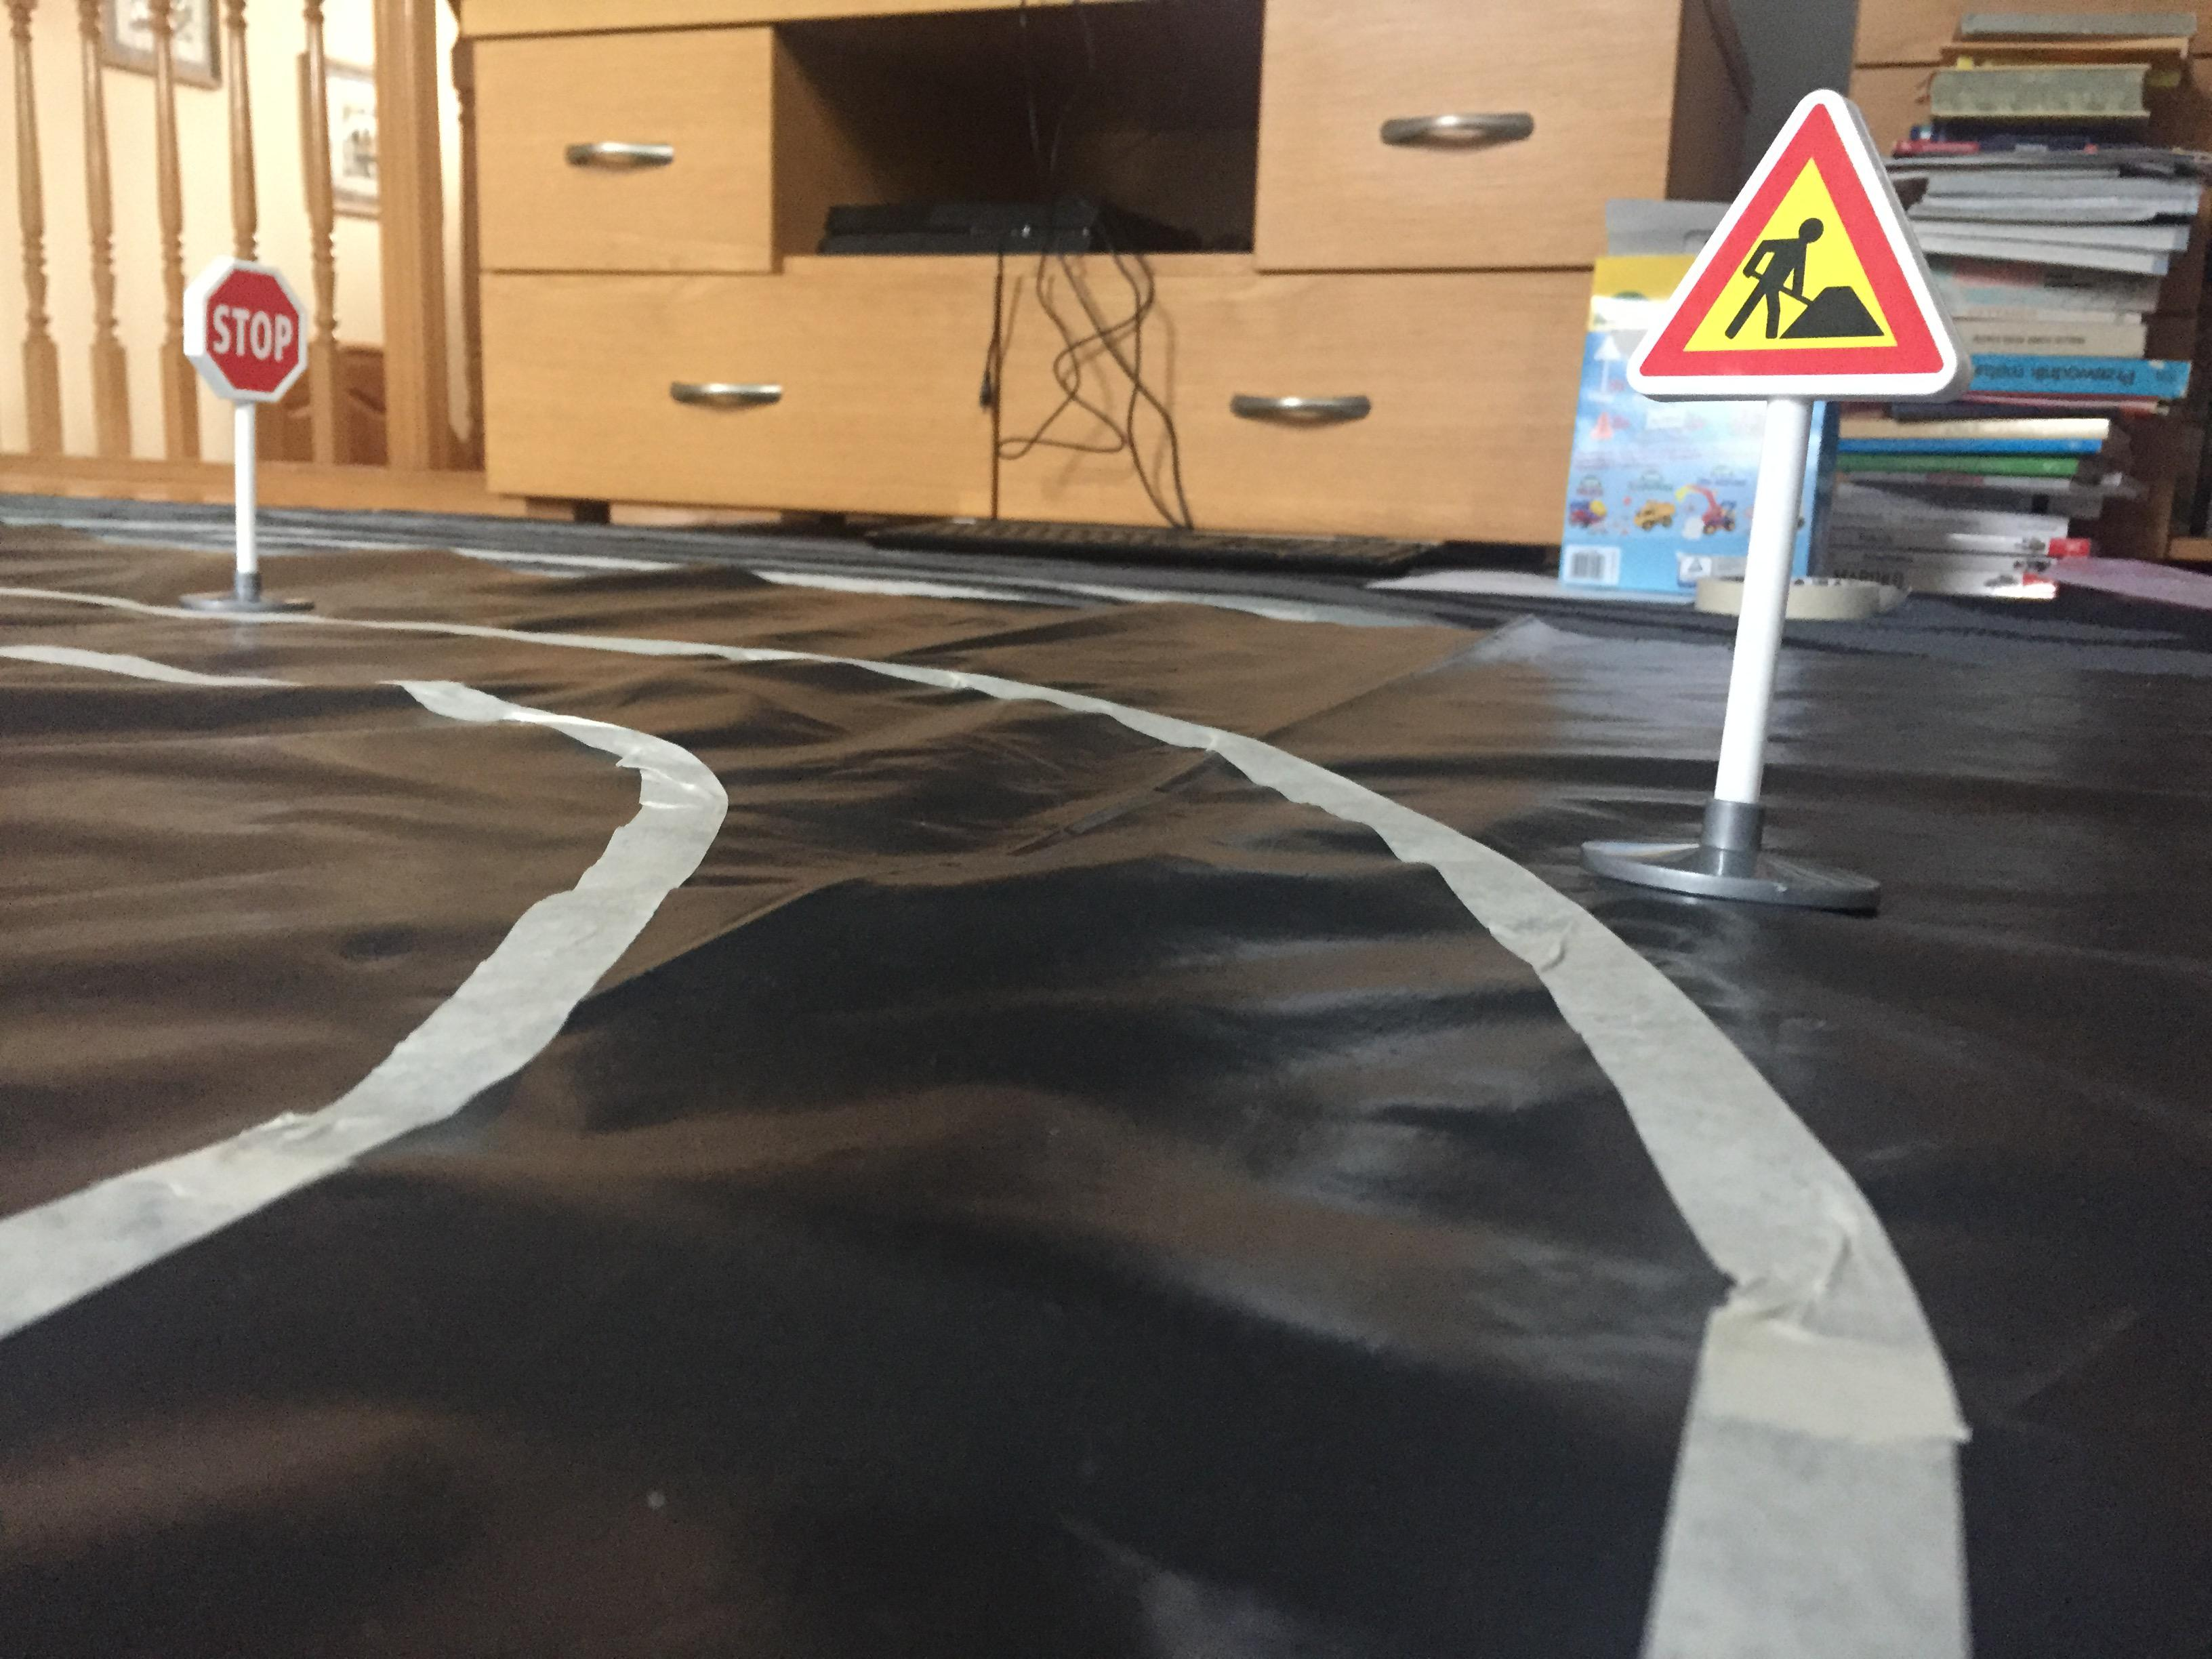stop: (171, 251, 324, 403)
work: (1620, 78, 1965, 410)
